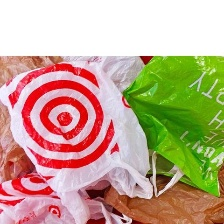plastic_bag: (1, 58, 154, 222), (122, 54, 223, 199), (0, 56, 64, 187), (99, 160, 223, 224), (0, 171, 132, 223), (59, 53, 151, 108)
